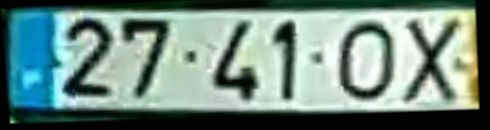1: (269, 19, 300, 106)
2: (59, 15, 118, 101)
4: (207, 18, 264, 105)
7: (119, 17, 174, 103)
O: (336, 20, 398, 103)
X: (400, 17, 464, 105)
